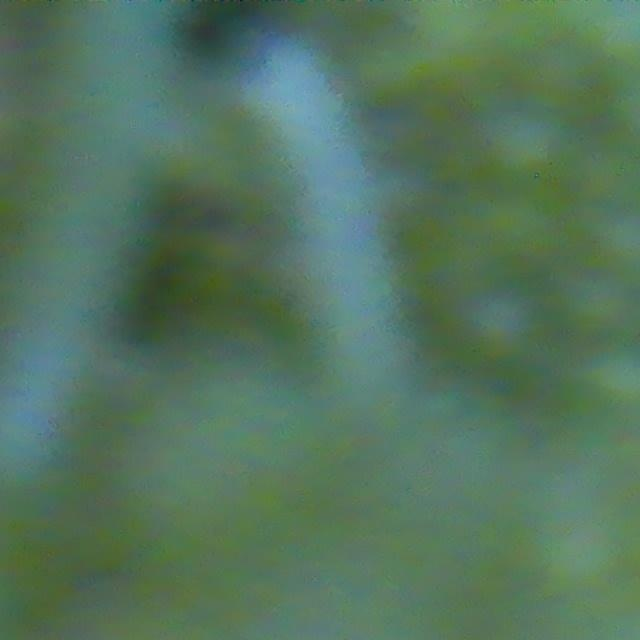SeaGrape: (484, 106, 568, 183), (583, 339, 640, 418)
